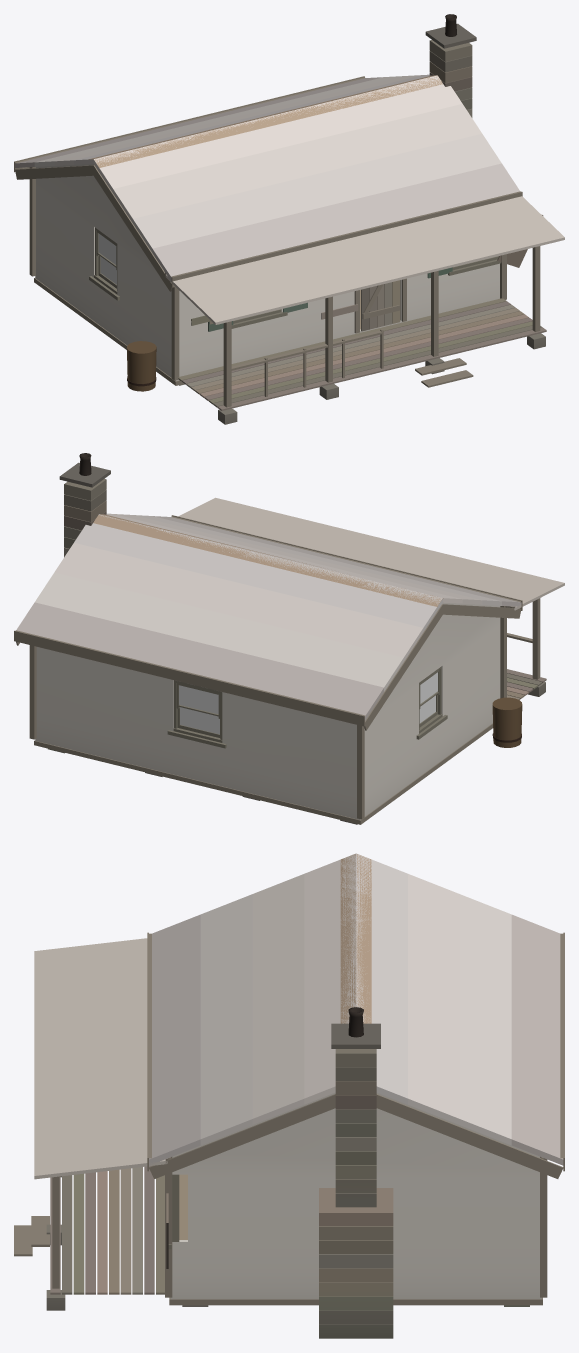
File: cabin_abandoned_a_lod1.glb
3 renders of one model, top to bottom at view 1: azimuth 30°, elevation 25°; view 2: azimuth 150°, elevation 25°; view 3: azimuth 270°, elevation 25°, orthographic. The views are drawn at different scales.
Parts seen in each view (by area): view 1: body, door, windows; view 2: body, windows; view 3: body.
Part boxes in pixels (x1,y1,x2,y2): body: [14, 14, 564, 424]; door: [361, 280, 400, 331]; windows: [98, 233, 116, 284]; body: [14, 453, 564, 824]; windows: [179, 672, 437, 734]; body: [14, 853, 564, 1338].
Size of what is drawn, in the model's own units: 9.85 by 5.62 by 8.9.
